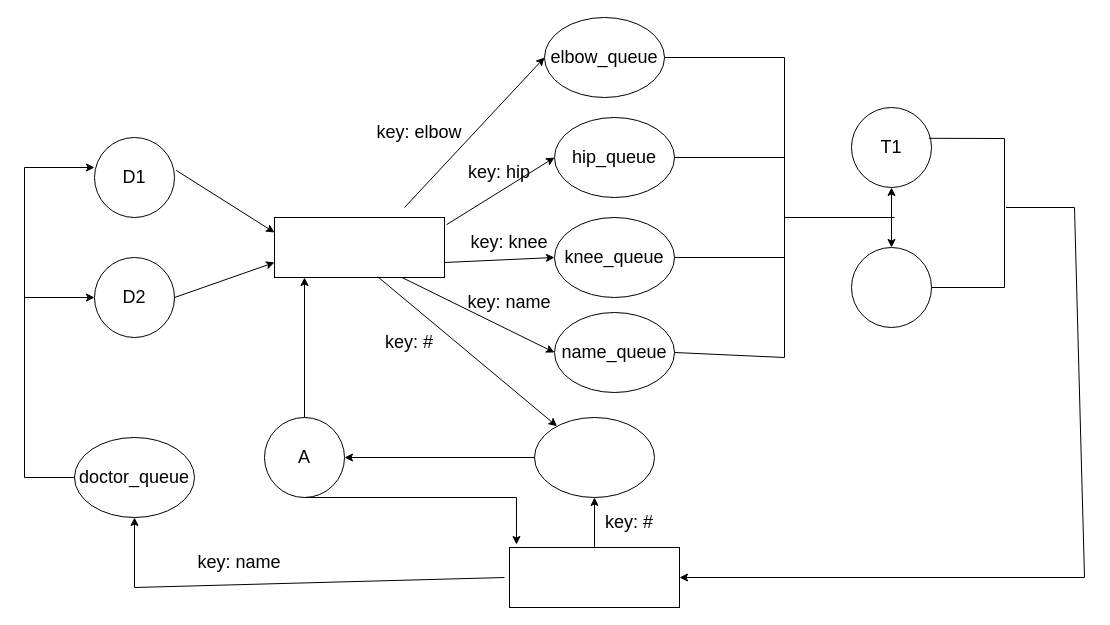
Some shapes in this 1110 by 625 pixel diagram are drawn without their labels. Here are the shapes that lost their labels. From the top down, the centre of each, then its label:
(x=359, y=247): technician_exchange
(x=891, y=287): T2
(x=594, y=457): admin_queue
(x=594, y=577): doctor_exchange
